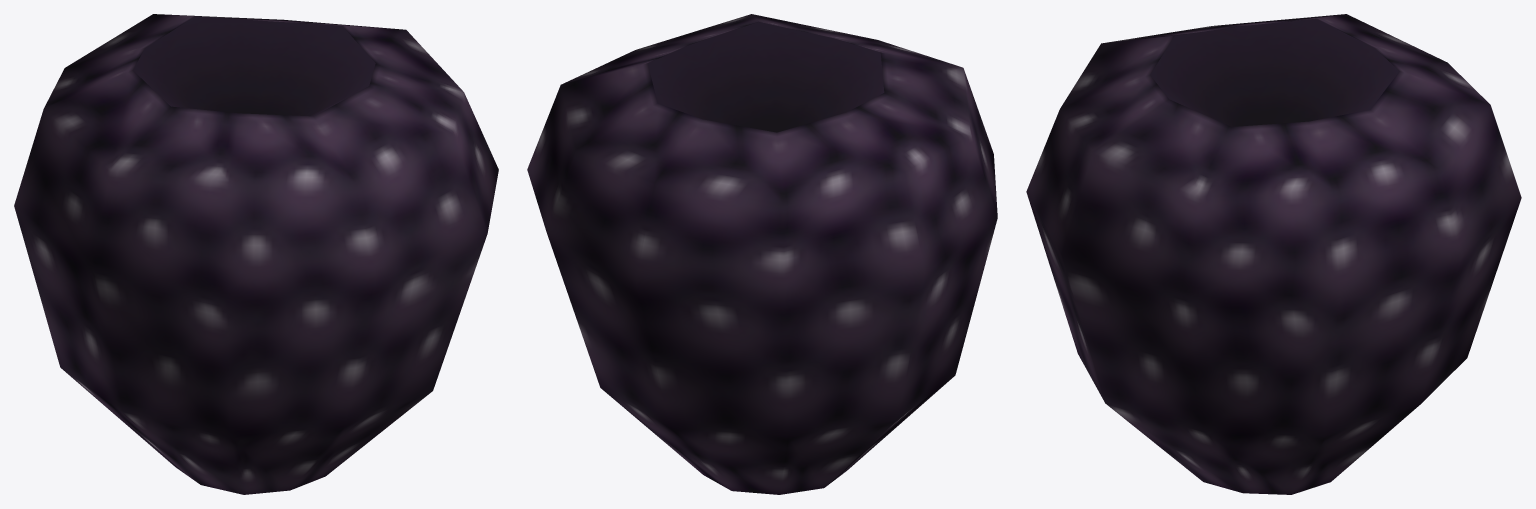
The model's file is Blackberry.fbx.
3 renders of one model, left to right at view 1: azimuth 30°, elevation 25°; view 2: azimuth 150°, elevation 25°; view 3: azimuth 270°, elevation 25°, orthographic.
Parts seen in each view (by area): view 1: Blackberry; view 2: Blackberry; view 3: Blackberry.
Boxes of the visible parts, <box> form: Blackberry: <box>14,14,498,494</box>; Blackberry: <box>527,14,997,494</box>; Blackberry: <box>1026,14,1521,494</box>.
Size of the model in its own units: 15.86 by 15.56 by 16.55.
